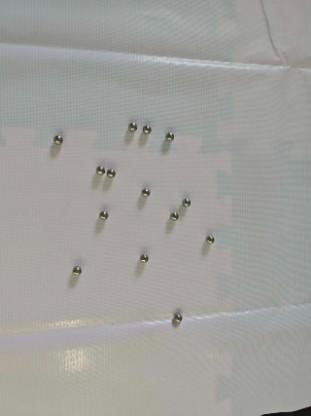ironball: (140, 186, 150, 198), (51, 134, 61, 144), (172, 312, 181, 323), (204, 232, 215, 241), (169, 210, 179, 219), (128, 120, 137, 130), (138, 253, 149, 261), (98, 208, 107, 217), (141, 124, 150, 133), (72, 265, 80, 275), (165, 130, 173, 140), (182, 196, 190, 205), (106, 168, 114, 177), (95, 165, 103, 173)
